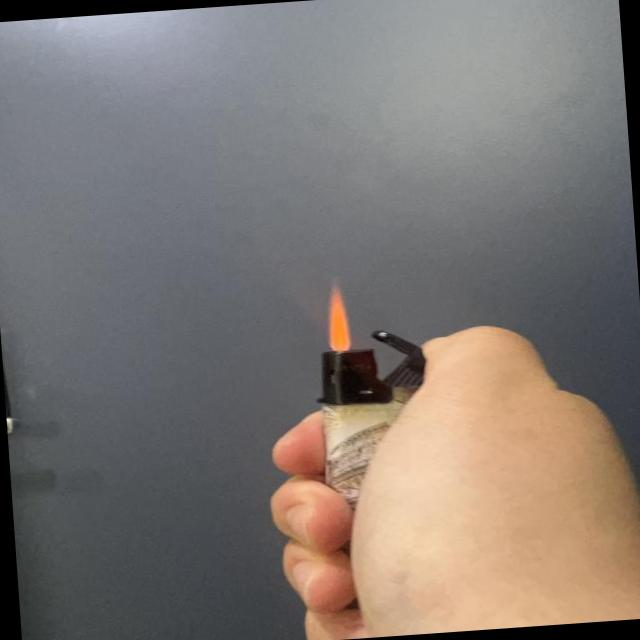Fire: (322, 280, 352, 350)
